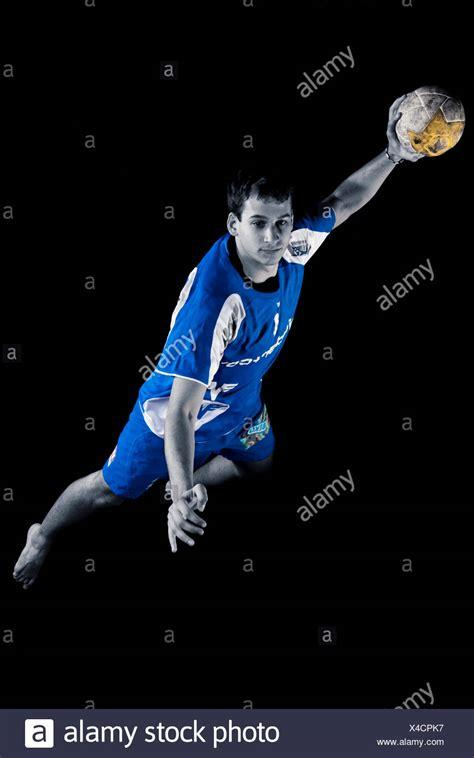ballon_handball: (391, 85, 468, 164)
